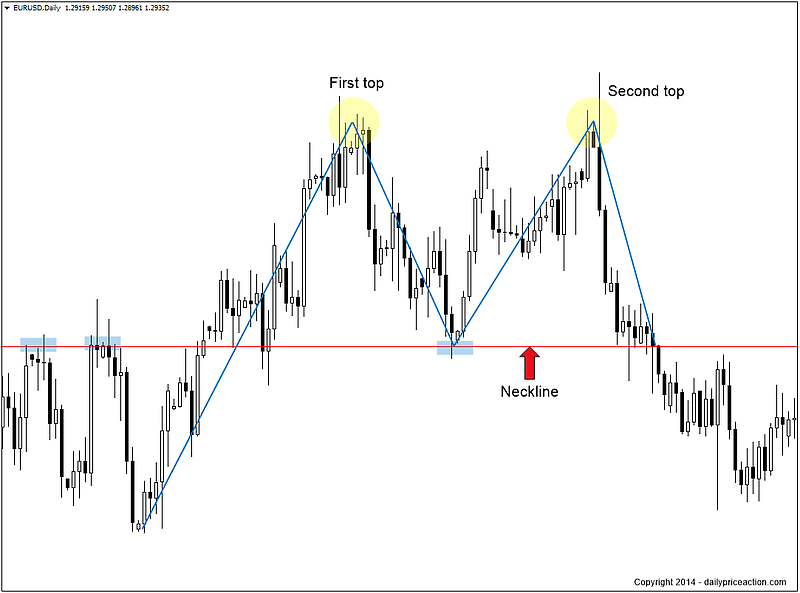H&S Pattern: (702, 211, 800, 417)
Inverse H&S Pattern: (180, 581, 800, 593)
M-Pattern: (248, 119, 672, 344)
